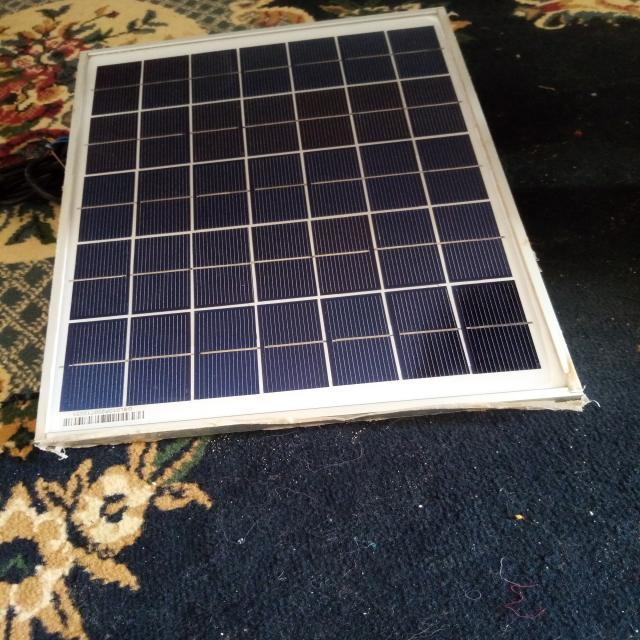no faulty: (41, 8, 578, 442)
